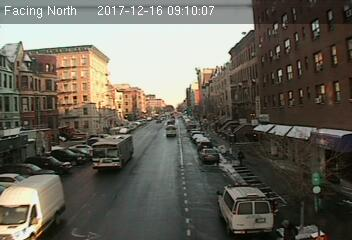bus: (89, 134, 135, 170)
car: (198, 148, 220, 164)
police: (216, 182, 276, 236)
truck: (1, 172, 64, 240)
